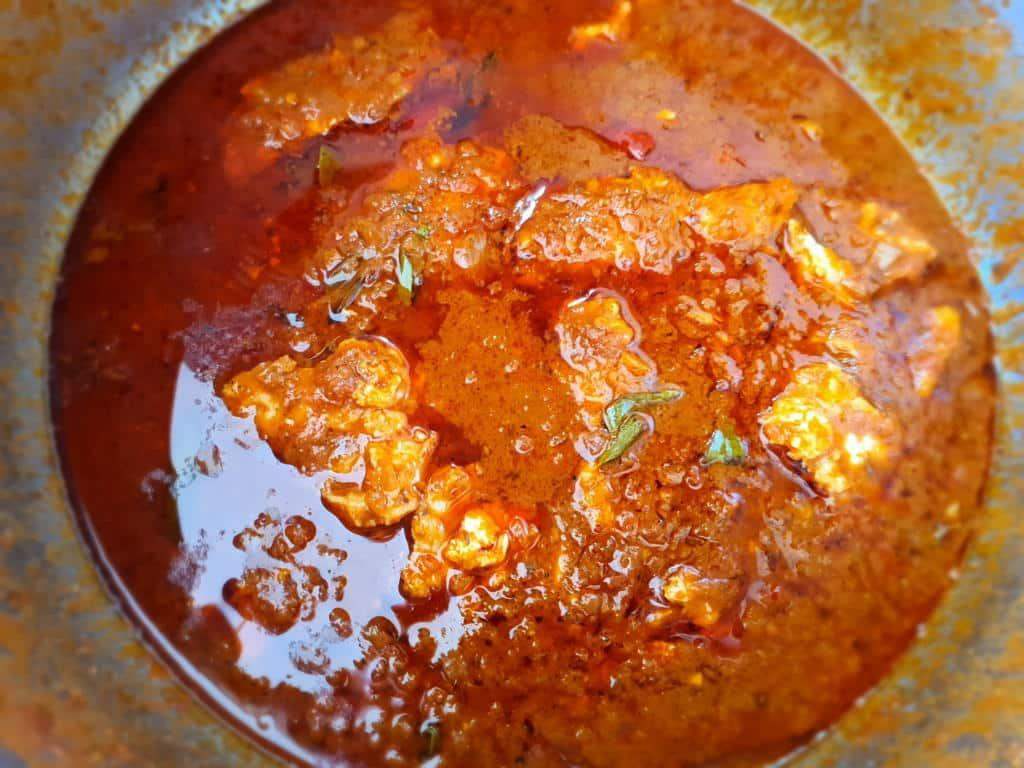FishCurry: (46, 0, 1002, 768)
